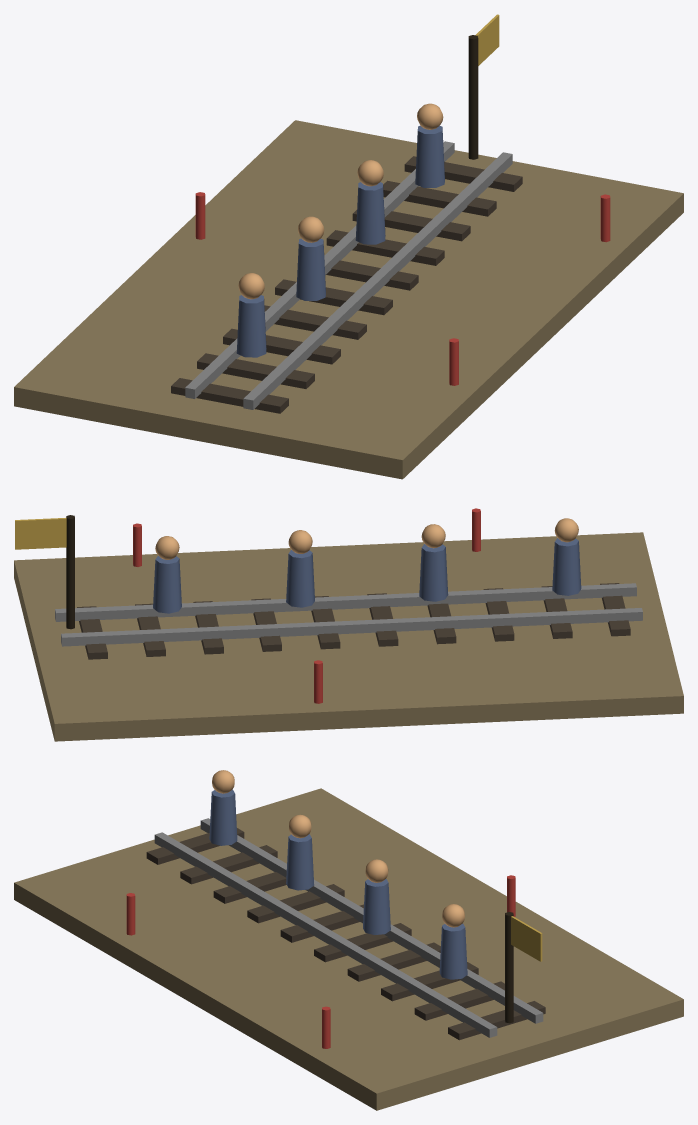
File: single_track.glb
The picture shows the model from 3 angles, top to bottom: view 1: azimuth 30°, elevation 25°; view 2: azimuth 150°, elevation 25°; view 3: azimuth 270°, elevation 25°; orthographic projection. The views are drawn at different scales.
Size of the model in its own units: 3.04 by 0.64 by 2.82.
